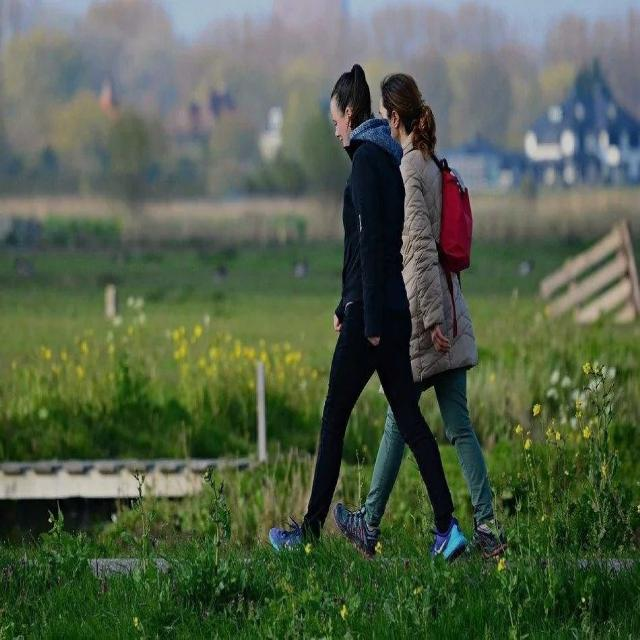non-fight: (262, 56, 470, 562), (332, 62, 514, 551)
